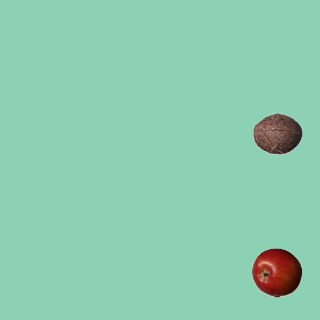Apple Braeburn: (251, 247, 301, 297)
Cocos: (252, 108, 302, 158)
